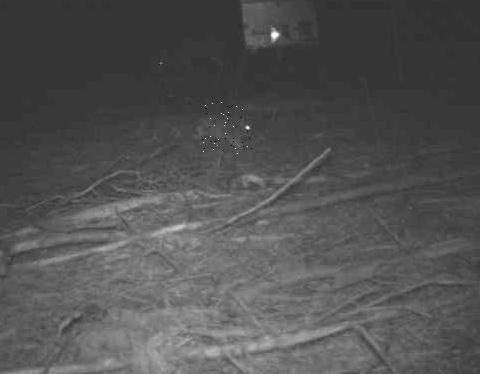Rabbit: (200, 100, 251, 155)
